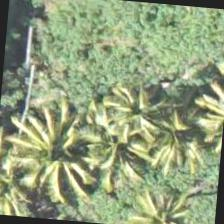Kelapa_Sawit: (76, 70, 174, 168), (130, 95, 223, 194), (0, 102, 91, 201), (105, 167, 202, 223)
